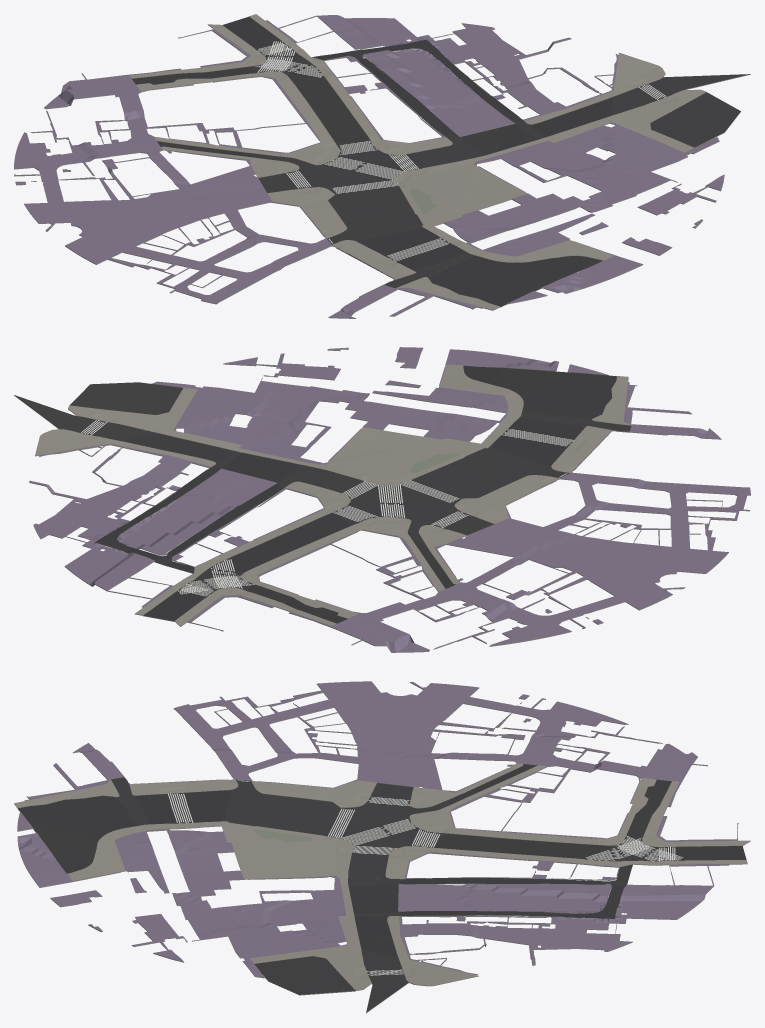
The model's file is ground_core.glb.
3 renders of one model, top to bottom at view 1: azimuth 30°, elevation 25°; view 2: azimuth 150°, elevation 25°; view 3: azimuth 270°, elevation 25°, orthographic.
Visible parts, largest first — view 1: ground_fill, ground_sidewalk, ground_road, ground_intersection, ground_kerb, ground_marking; view 2: ground_fill, ground_sidewalk, ground_road, ground_intersection, ground_kerb, ground_marking; view 3: ground_fill, ground_sidewalk, ground_road, ground_intersection, ground_kerb, ground_marking.
Boxes of the visible parts, x1=… form: ground_fill: x1=14, y1=15, x2=724, y2=318; ground_sidewalk: x1=129, y1=14, x2=706, y2=309; ground_road: x1=132, y1=16, x2=613, y2=306; ground_intersection: x1=250, y1=50, x2=750, y2=288; ground_kerb: x1=14, y1=16, x2=750, y2=318; ground_marking: x1=254, y1=41, x2=666, y2=261; ground_fill: x1=29, y1=347, x2=750, y2=652; ground_sidewalk: x1=35, y1=364, x2=630, y2=626; ground_road: x1=95, y1=365, x2=617, y2=623; ground_intersection: x1=14, y1=382, x2=631, y2=590; ground_kerb: x1=14, y1=348, x2=750, y2=652; ground_marking: x1=81, y1=420, x2=573, y2=596; ground_fill: x1=17, y1=681, x2=738, y2=977; ground_sidewalk: x1=14, y1=763, x2=750, y2=990; ground_road: x1=18, y1=764, x2=746, y2=956; ground_intersection: x1=111, y1=777, x2=658, y2=1012; ground_kerb: x1=14, y1=682, x2=750, y2=1013; ground_marking: x1=168, y1=780, x2=683, y2=975.
Bounding box in the file's own units: 333 × 4.23 × 306.
